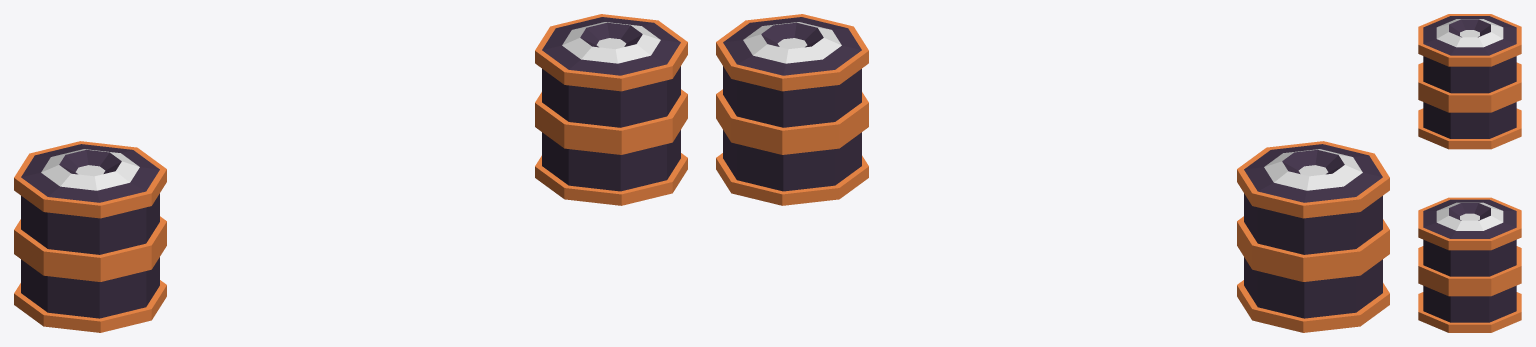
The model's file is Transport_Drone_Thrusters_F.fbx.
The picture shows the model from 3 angles, left to right: view 1: azimuth 30°, elevation 25°; view 2: azimuth 150°, elevation 25°; view 3: azimuth 270°, elevation 25°; orthographic projection. The views are drawn at different scales.
Parts seen in each view (by area): view 1: TransportDrone_Thrusters_F_LOD0; view 2: TransportDrone_Thrusters_F_LOD0; view 3: TransportDrone_Thrusters_F_LOD0.
Part boxes in pixels (left/top/right/bottom): TransportDrone_Thrusters_F_LOD0: left=14, top=14, right=687, bottom=332; TransportDrone_Thrusters_F_LOD0: left=716, top=14, right=1389, bottom=332; TransportDrone_Thrusters_F_LOD0: left=1418, top=14, right=1521, bottom=332.
Size of what is drawn, in the model's own units: 742 by 171 by 142.
